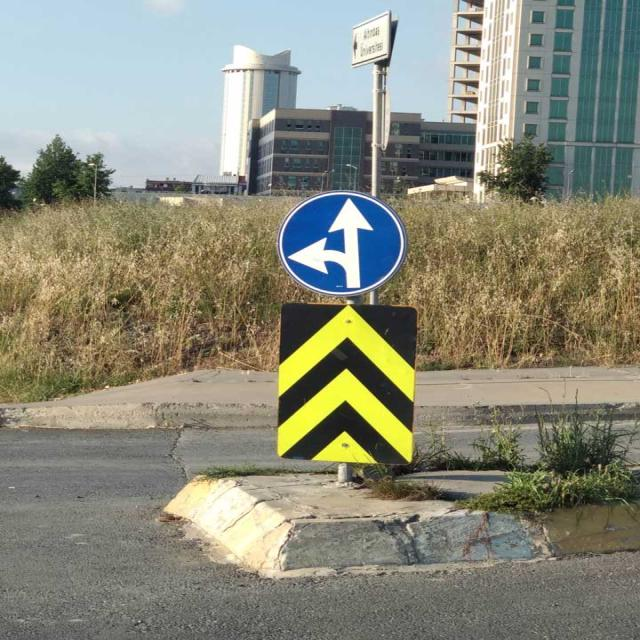ilerisol: (278, 189, 408, 296)
